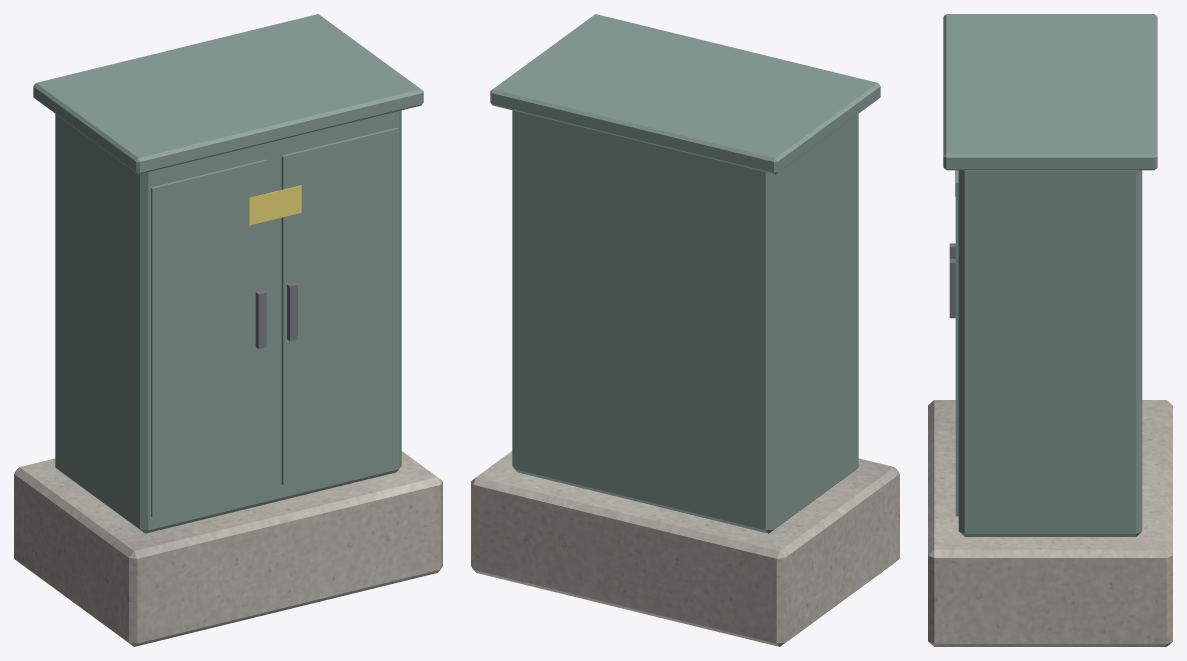
File: el_cabinet.glb
The picture shows the model from 3 angles, left to right: view 1: azimuth 30°, elevation 25°; view 2: azimuth 150°, elevation 25°; view 3: azimuth 270°, elevation 25°; orthographic projection.
Visible parts, largest first — view 1: el_cabinet_frame, el_cabinet_concrete, el_cabinet_yellowp, el_cabinet_steel_d; view 2: el_cabinet_frame, el_cabinet_concrete; view 3: el_cabinet_frame, el_cabinet_concrete, el_cabinet_steel_d.
Part boxes in pixels (left/top/right/bottom): el_cabinet_frame: left=33, top=14, right=423, bottom=533; el_cabinet_concrete: left=14, top=451, right=442, bottom=646; el_cabinet_yellowp: left=249, top=185, right=301, bottom=225; el_cabinet_steel_d: left=255, top=282, right=297, bottom=348; el_cabinet_frame: left=490, top=14, right=880, bottom=533; el_cabinet_concrete: left=471, top=451, right=899, bottom=646; el_cabinet_frame: left=943, top=14, right=1157, bottom=536; el_cabinet_concrete: left=928, top=400, right=1172, bottom=646; el_cabinet_steel_d: left=949, top=243, right=955, bottom=318.
Bounding box in the file's own units: 1.2 × 1.76 × 0.8.
Materials: 4 (1 with a texture image).
